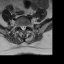CCS_normal: (22, 24, 24, 32)
LFS_stenosis: (26, 22, 28, 28)
LLS_normal: (24, 24, 26, 31)
RFS_stenosis: (18, 23, 20, 28)
RLS_normal: (20, 23, 22, 31)
